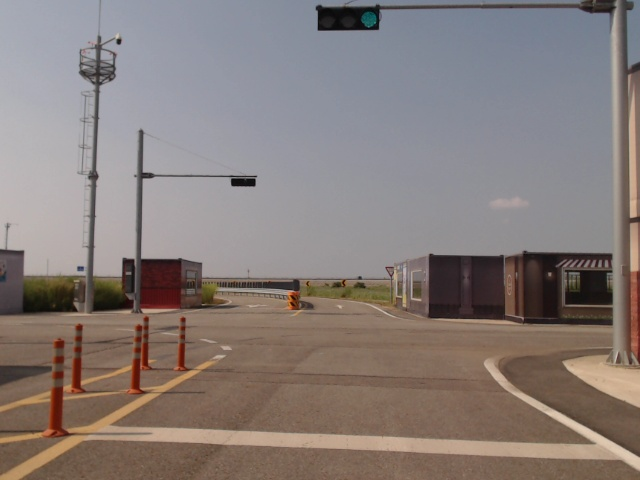green_3: (317, 7, 379, 31)
